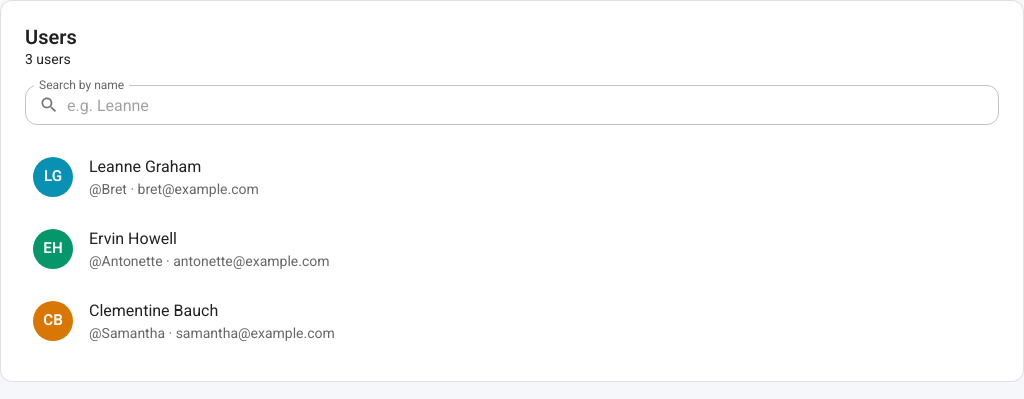
Test: UsersPanel › explains when no user matches the search
The image size is (1024, 399).
Type "nobody" into the field with test id "user-search-input" at (533, 105), box [67,85,999,125]
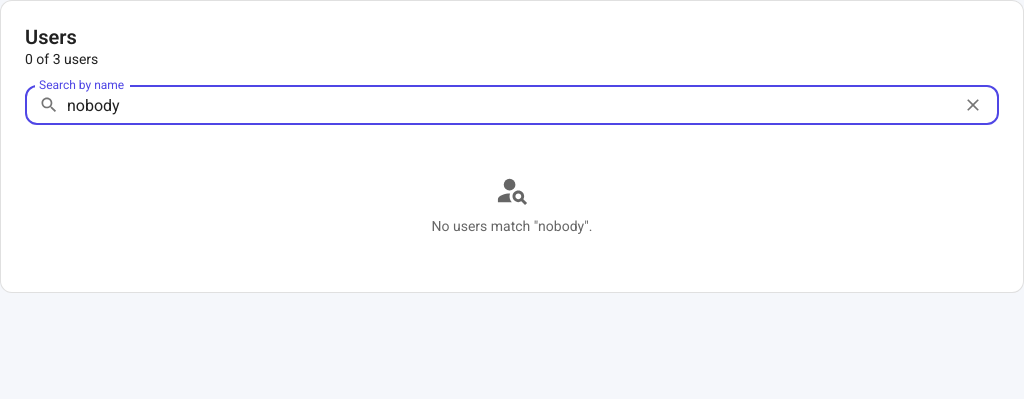
Now the message with test id "users-empty" shows "nobody", box [432,218,592,234]
Now the list item with test id "user-list-item" is gone
